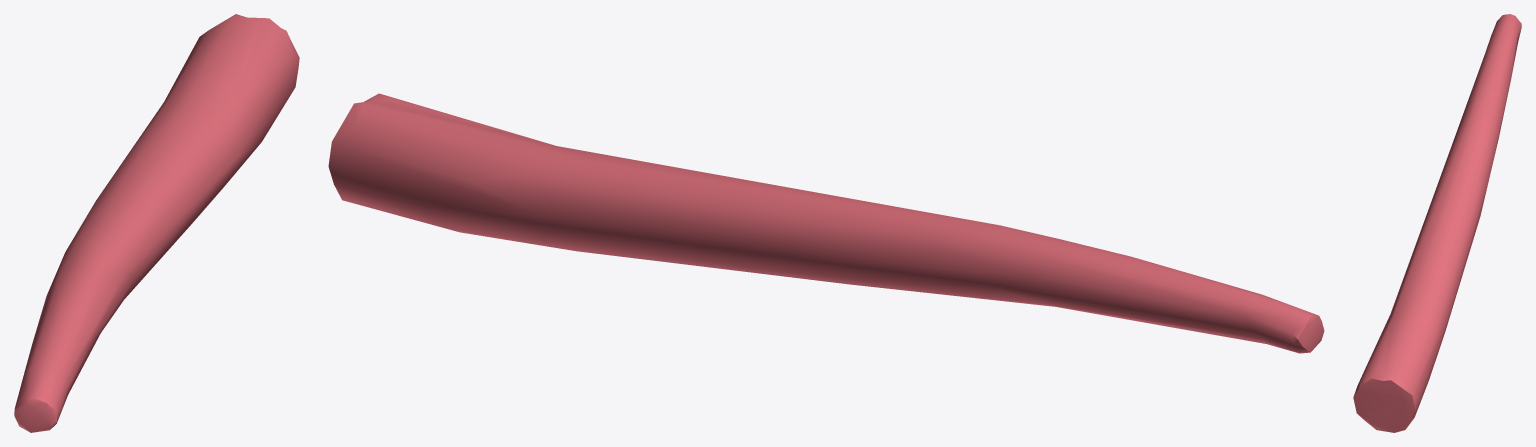
Rendered from fma68194_fj6053.glb.
3 renders of one model, left to right at view 1: azimuth 90°, elevation 25°; view 2: azimuth 150°, elevation 25°; view 3: azimuth 270°, elevation 25°, orthographic. The views are drawn at different scales.
Parts seen in each view (by area): view 1: FMA68194_FJ6053; view 2: FMA68194_FJ6053; view 3: FMA68194_FJ6053.
Boxes of the visible parts, x1,y1,x2,y2 form: FMA68194_FJ6053: (14,14,299,432); FMA68194_FJ6053: (328,93,1324,353); FMA68194_FJ6053: (1353,14,1521,432).
Size of the model in its own units: 0.0537 by 0.0106 by 0.0128.
